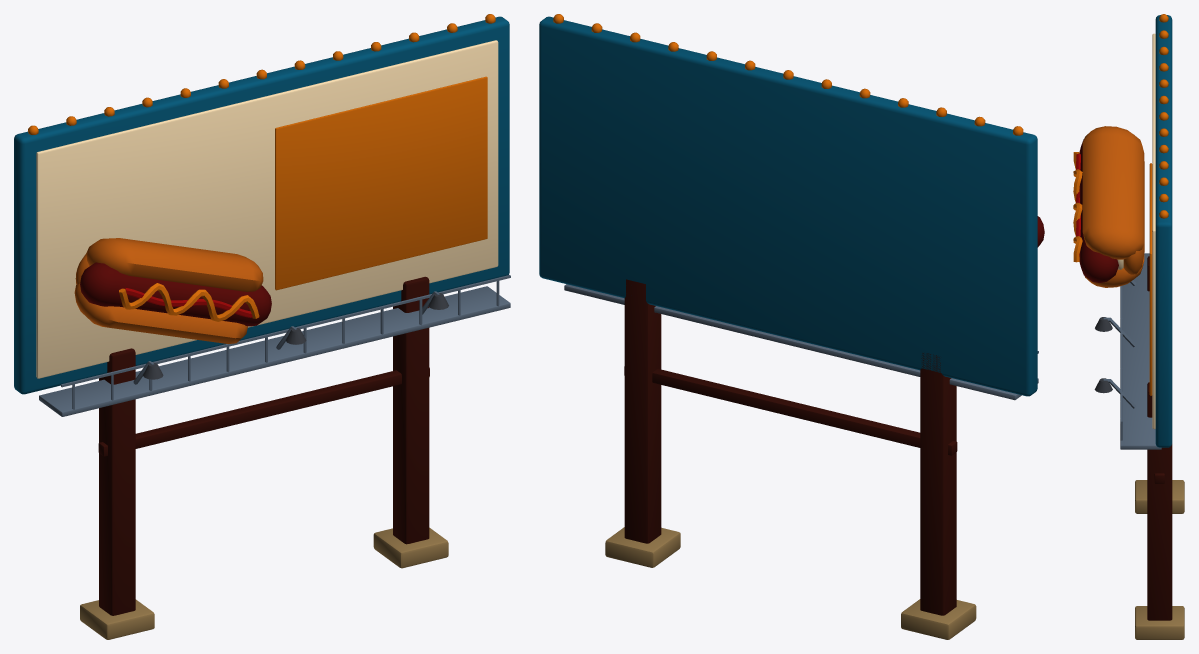
File: Billboard.obj
3 views of the same model, side by side, from view 1: azimuth 30°, elevation 25°; view 2: azimuth 150°, elevation 25°; view 3: azimuth 270°, elevation 25° (orthographic). The views are drawn at different scales.
Visible parts, largest first — view 1: Billboard; view 2: Billboard; view 3: Billboard.
Boxes of the visible parts, bbox=[...] form: Billboard: bbox=[14, 14, 510, 639]; Billboard: bbox=[539, 14, 1044, 639]; Billboard: bbox=[1073, 14, 1184, 639].
Bounding box in the file's own units: 12 × 12.12 × 2.68.
